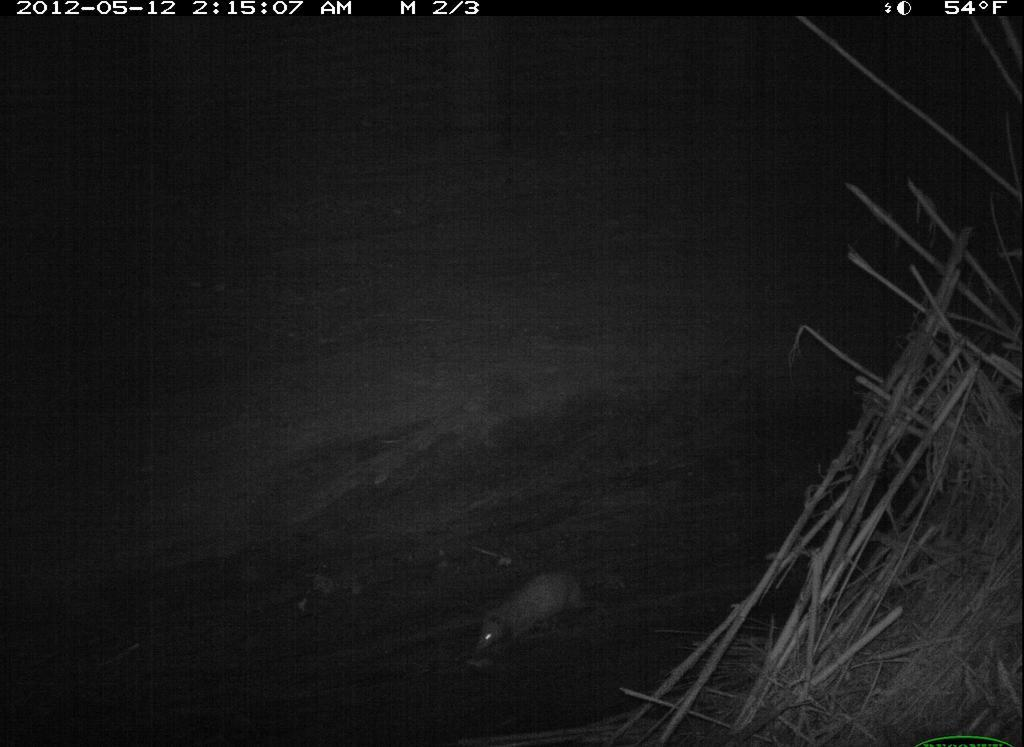opossum: (461, 559, 628, 670)
